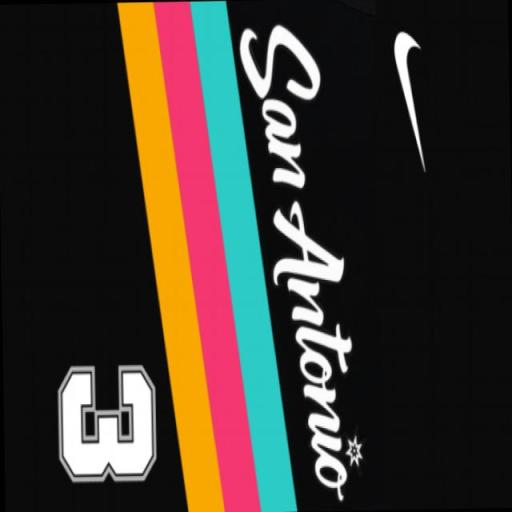Nike: (383, 15, 435, 195)
